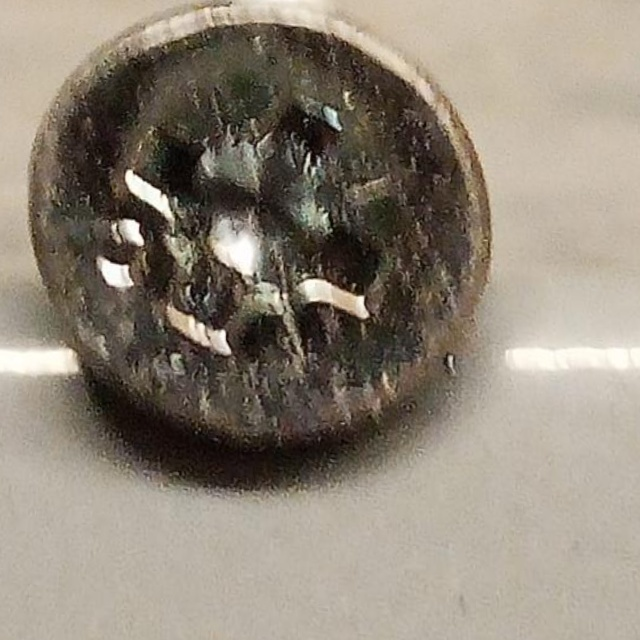pozidriv: (1, 0, 502, 478)
